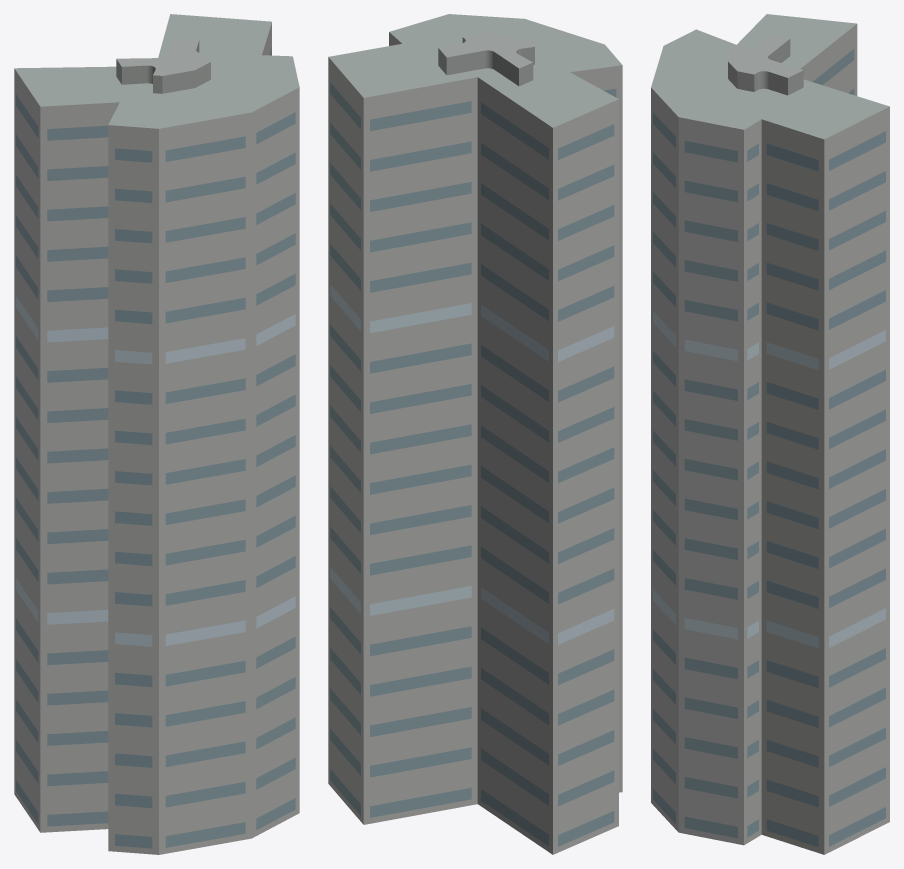
The model's file is fallback-jamsil-parkrio-229.glb.
3 views of the same model, side by side, from view 1: azimuth 30°, elevation 25°; view 2: azimuth 150°, elevation 25°; view 3: azimuth 270°, elevation 25° (orthographic).
Visible parts, largest first — view 1: fallback-jamsil-parkrio-229; view 2: fallback-jamsil-parkrio-229; view 3: fallback-jamsil-parkrio-229.
Boxes of the visible parts, x1,y1,x2,y2 form: fallback-jamsil-parkrio-229: (14, 14, 299, 854); fallback-jamsil-parkrio-229: (328, 14, 622, 854); fallback-jamsil-parkrio-229: (651, 14, 889, 854).
Size of the model in its own units: 36.71 by 100 by 29.54.
